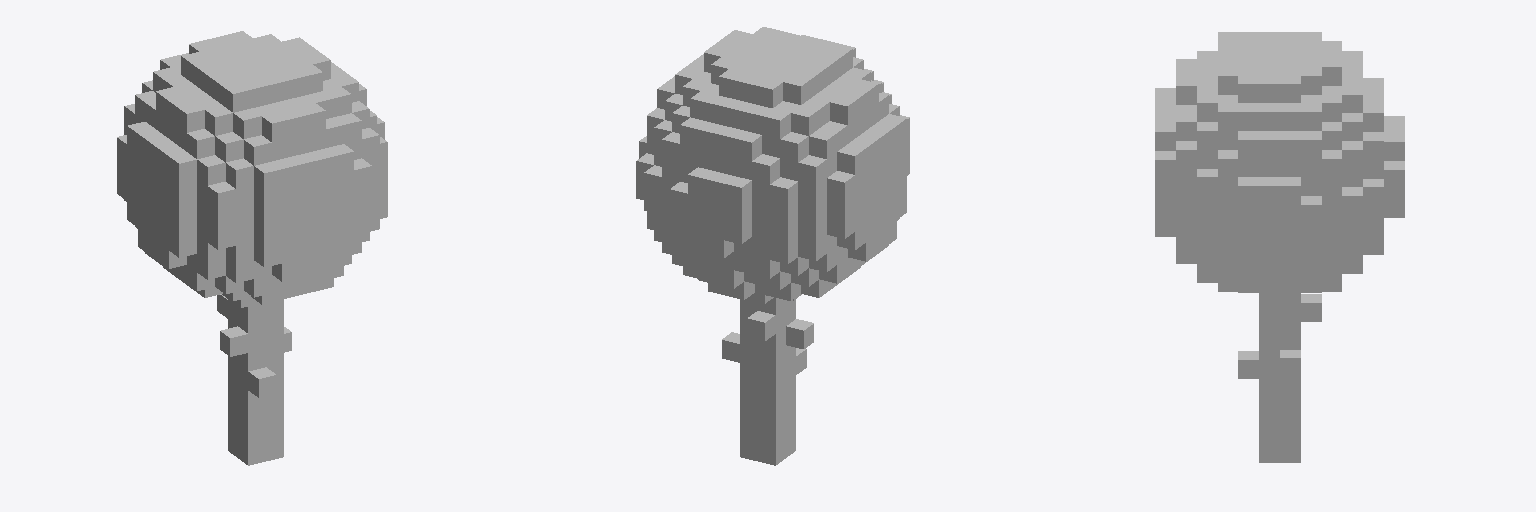
Rendered from Arvore 3.obj.
The picture shows the model from 3 angles: view 1: azimuth 30°, elevation 25°; view 2: azimuth 150°, elevation 25°; view 3: azimuth 270°, elevation 25°; orthographic projection.
Visible parts, largest first — view 1: object 1; view 2: object 1; view 3: object 1.
Part boxes in pixels (x1,y1,x2,y2): object 1: (117, 31, 387, 465); object 1: (636, 27, 909, 465); object 1: (1155, 32, 1404, 462).
Bounding box in the file's own units: 1.2 × 2.1 × 1.2.